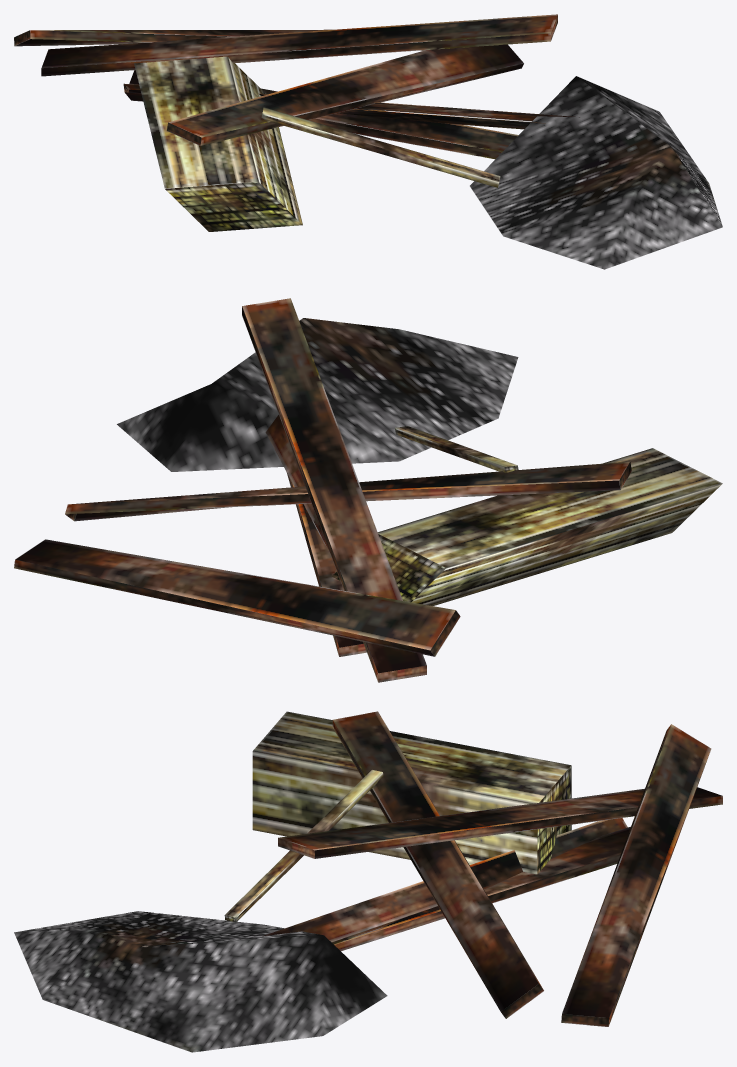
Rendered from Environment - Prop - Construction Supply Pile - Damaged - PMCtrSlpy_d.glb.
The picture shows the model from 3 angles, top to bottom: view 1: azimuth 30°, elevation 25°; view 2: azimuth 150°, elevation 25°; view 3: azimuth 270°, elevation 25°; orthographic projection. The views are drawn at different scales.
Visible parts, largest first — view 1: PMCTRSLPY_D; view 2: PMCTRSLPY_D; view 3: PMCTRSLPY_D.
Boxes of the visible parts, x1,y1,x2,y2 form: PMCTRSLPY_D: [14, 14, 722, 269]; PMCTRSLPY_D: [14, 298, 722, 682]; PMCTRSLPY_D: [14, 711, 722, 1052].
Bounding box in the file's own units: 30.24 × 8.37 × 34.68.
Materials: 1 (1 with a texture image).
